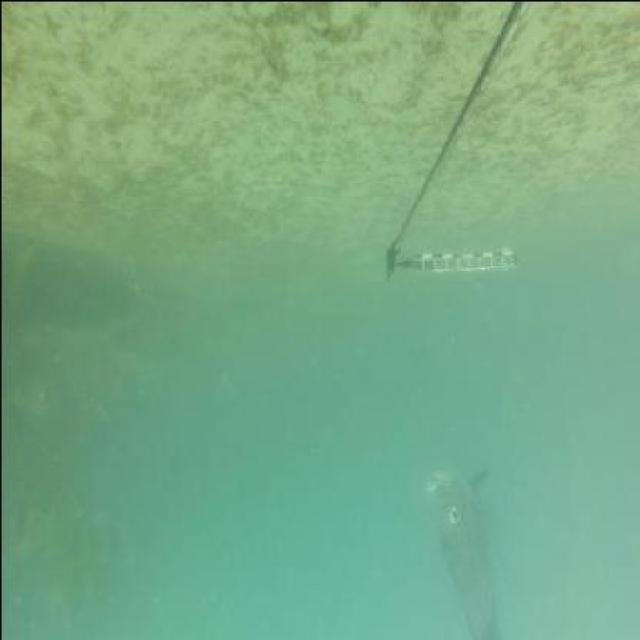acanthopagrus_palmaris: (415, 453, 514, 639)
